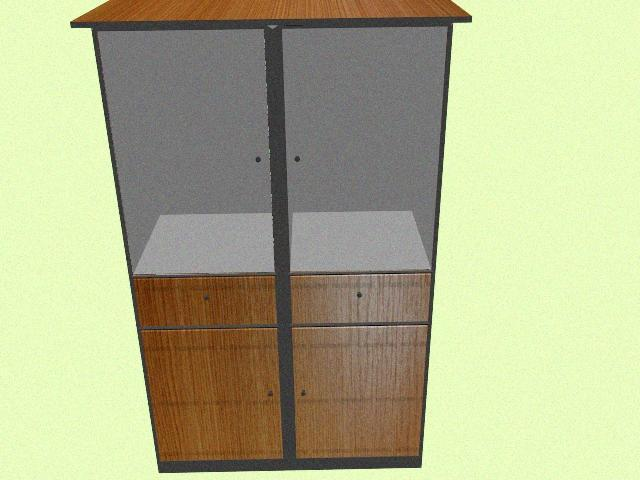cabinet_door: (286, 27, 439, 276), (116, 28, 269, 275), (151, 330, 280, 460), (295, 327, 423, 457), (137, 277, 276, 326), (292, 275, 429, 323)
handle: (264, 387, 278, 401), (353, 289, 366, 303), (252, 153, 265, 166), (200, 293, 213, 306), (292, 154, 305, 166), (299, 387, 309, 399)
